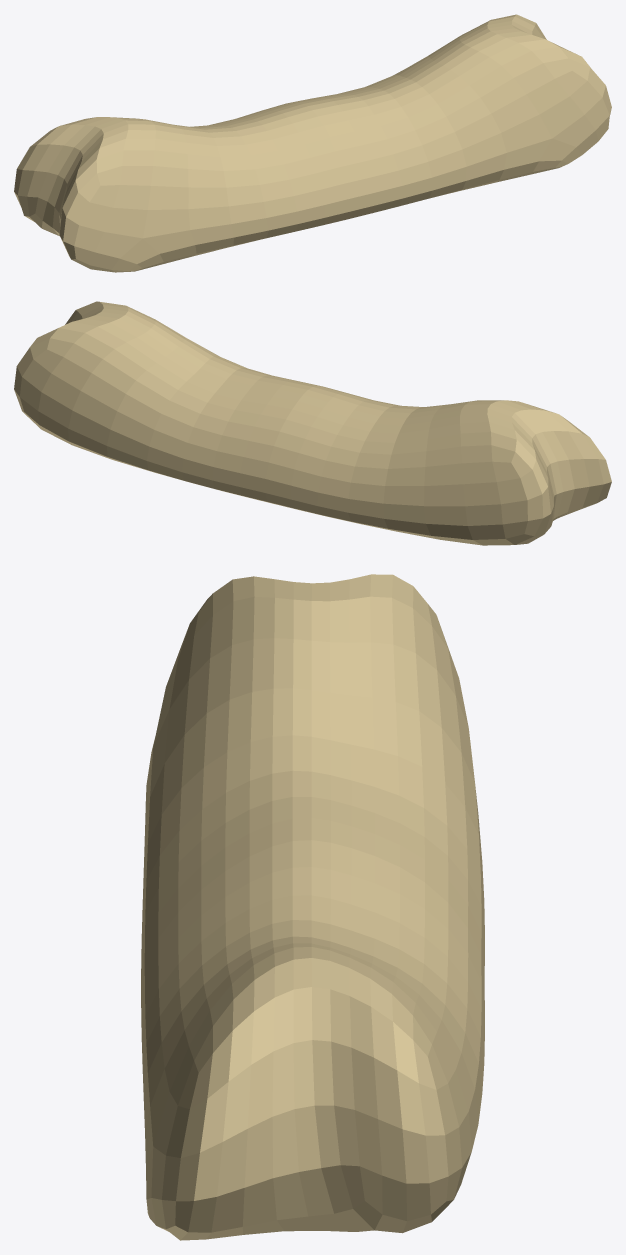
File: CherepKost.fbx
The picture shows the model from 3 angles, top to bottom: view 1: azimuth 30°, elevation 25°; view 2: azimuth 150°, elevation 25°; view 3: azimuth 270°, elevation 25°; orthographic projection. The views are drawn at different scales.
Visible parts, largest first — view 1: Cube.005; view 2: Cube.005; view 3: Cube.005.
Boxes of the visible parts, left/top/right/bottom form: Cube.005: left=14, top=14, right=611, bottom=272; Cube.005: left=14, top=301, right=611, bottom=545; Cube.005: left=141, top=574, right=484, bottom=1240.
Size of the model in its own units: 19.47 by 4.21 by 5.28.
